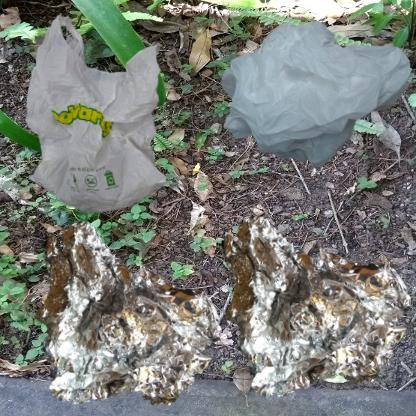aluminio: (10, 213, 246, 416), (213, 213, 416, 406)
bolsa: (10, 10, 198, 233), (213, 10, 416, 182)
